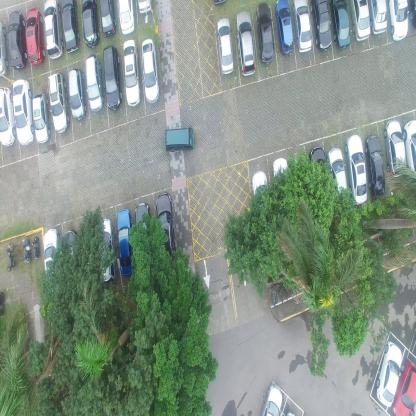car: (375, 340, 404, 406), (11, 78, 33, 146), (46, 72, 70, 134), (346, 133, 366, 206), (235, 9, 256, 77), (391, 358, 416, 414), (117, 208, 137, 277), (102, 43, 122, 110), (154, 190, 175, 253), (97, 217, 117, 283), (140, 37, 160, 103), (383, 120, 406, 176), (365, 133, 385, 197), (44, 0, 65, 60), (122, 38, 140, 106), (310, 0, 334, 51), (256, 1, 275, 64), (250, 170, 272, 224), (26, 7, 46, 65), (42, 228, 61, 289), (274, 0, 295, 55), (292, 0, 313, 55), (85, 54, 105, 111), (330, 0, 352, 51), (271, 156, 291, 212), (8, 10, 26, 70), (216, 16, 234, 75), (61, 0, 81, 53), (68, 66, 87, 121), (327, 146, 346, 198), (80, 0, 101, 47), (0, 84, 15, 147), (32, 92, 50, 144), (349, 0, 370, 43), (134, 202, 151, 255), (309, 143, 327, 192), (388, 0, 408, 42), (164, 125, 195, 152), (368, 0, 388, 38), (260, 381, 282, 415), (403, 117, 416, 173), (63, 228, 79, 272), (100, 0, 117, 38), (117, 0, 135, 35), (0, 19, 8, 78), (138, 0, 153, 15)
